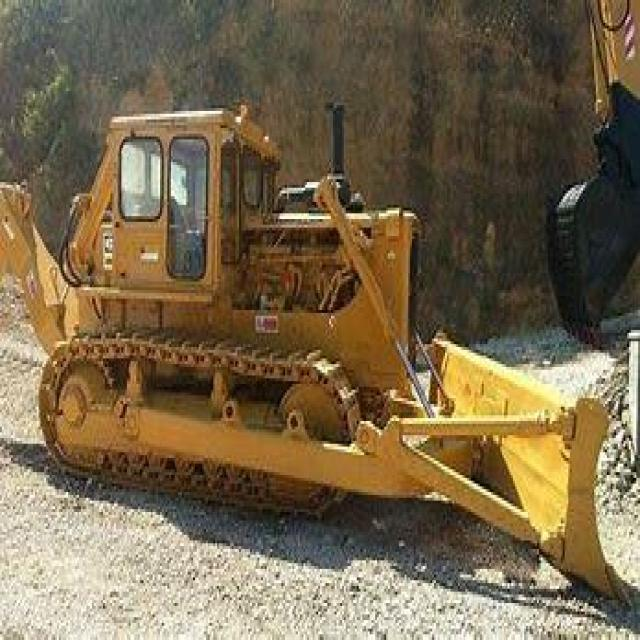buldozerpayloadergrader: (2, 94, 631, 606)
